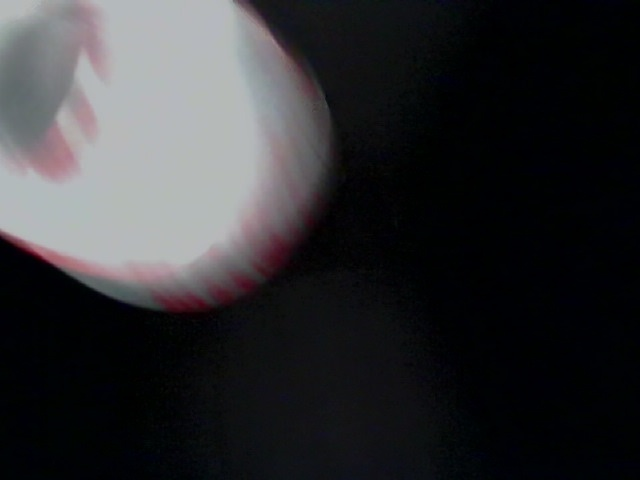CYLJ: (488, 240, 638, 480)
